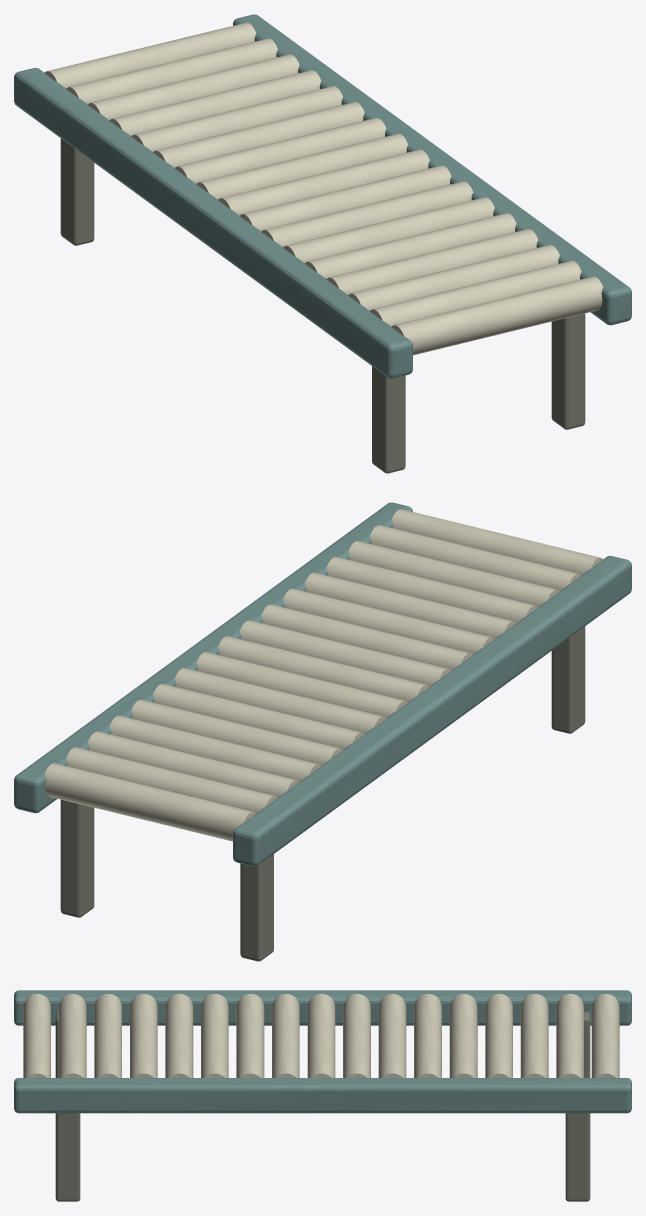
File: Conveyor_4m.glb
The picture shows the model from 3 angles, top to bottom: view 1: azimuth 30°, elevation 25°; view 2: azimuth 150°, elevation 25°; view 3: azimuth 270°, elevation 25°; orthographic projection. The views are drawn at different scales.
Parts seen in each view (by area): view 1: Conveyor_4m; view 2: Conveyor_4m; view 3: Conveyor_4m.
Part boxes in pixels (x1,y1,x2,y2): Conveyor_4m: (14, 14, 631, 473); Conveyor_4m: (14, 502, 631, 961); Conveyor_4m: (14, 990, 631, 1201).
Bounding box in the file's own units: 1.5 × 0.92 × 4.
3 materials, 2 textured.
